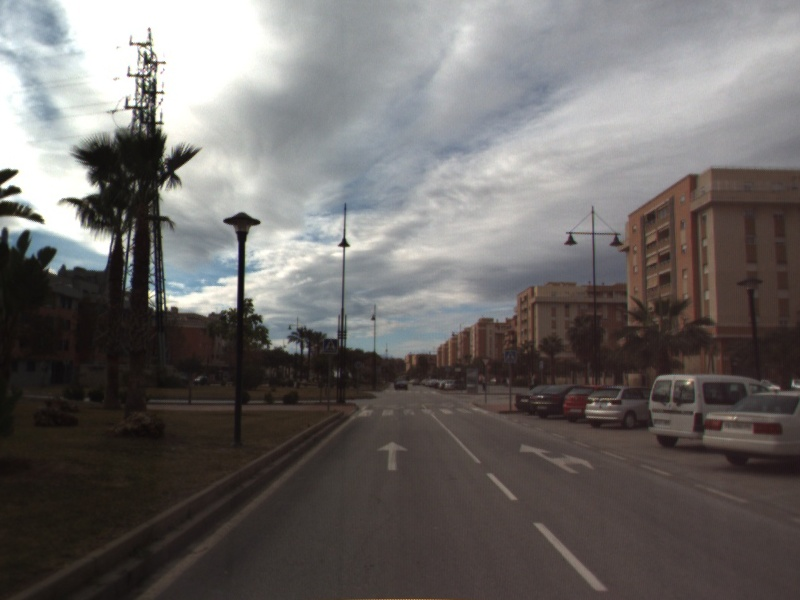STRAIGHT: (375, 439, 410, 472)
STRAIGHT_RIGHT: (518, 442, 596, 475)
